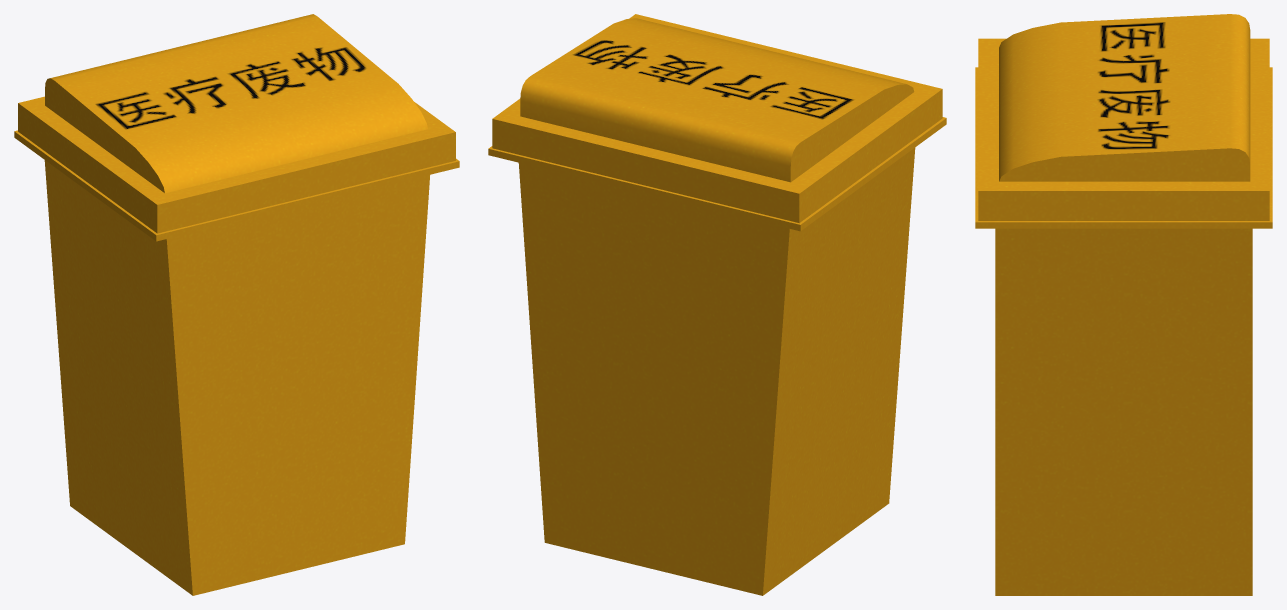
The model's file is 污物桶.glb.
The picture shows the model from 3 angles, left to right: view 1: azimuth 30°, elevation 25°; view 2: azimuth 150°, elevation 25°; view 3: azimuth 270°, elevation 25°; orthographic projection. The views are drawn at different scales.
Parts seen in each view (by area): view 1: Box082, Box084, Box083; view 2: Box082, Box084, Box083; view 3: Box082, Box084, Box083.
Boxes of the visible parts, x1,y1,x2,y2 form: Box082: (44,160,429,595); Box084: (45,14,427,193); Box083: (14,96,459,241); Box082: (518,147,915,595); Box084: (520,18,914,182); Box083: (488,14,946,231); Box082: (995,228,1252,595); Box084: (999,14,1250,181); Box083: (975,38,1272,228).
Size of the model in its own units: 0.0445 by 0.062 by 0.0361.
Materials: 1 (1 with a texture image).
